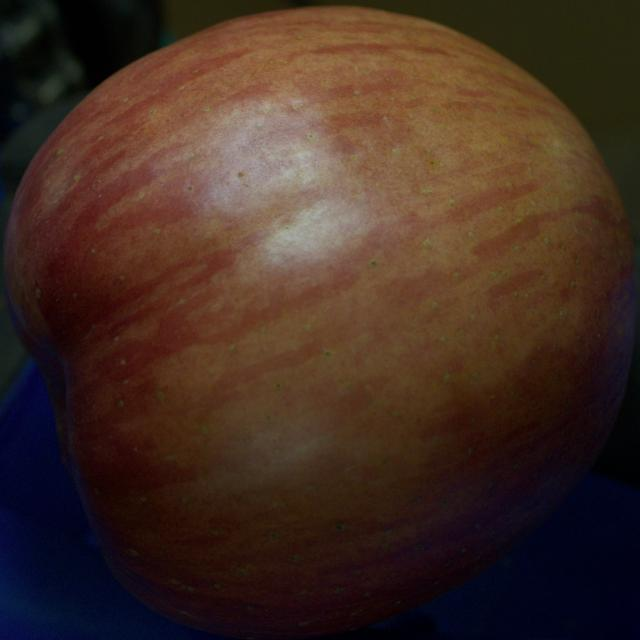apple: (4, 7, 636, 639)
